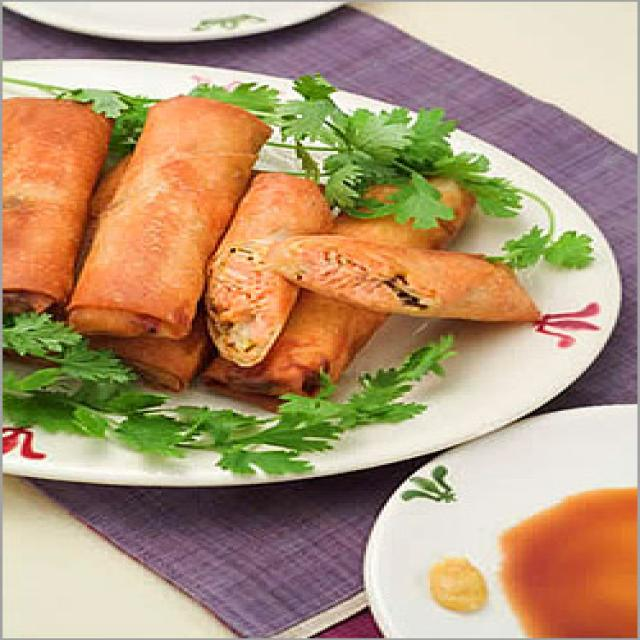鸡蛋料理: (0, 123, 640, 560)
